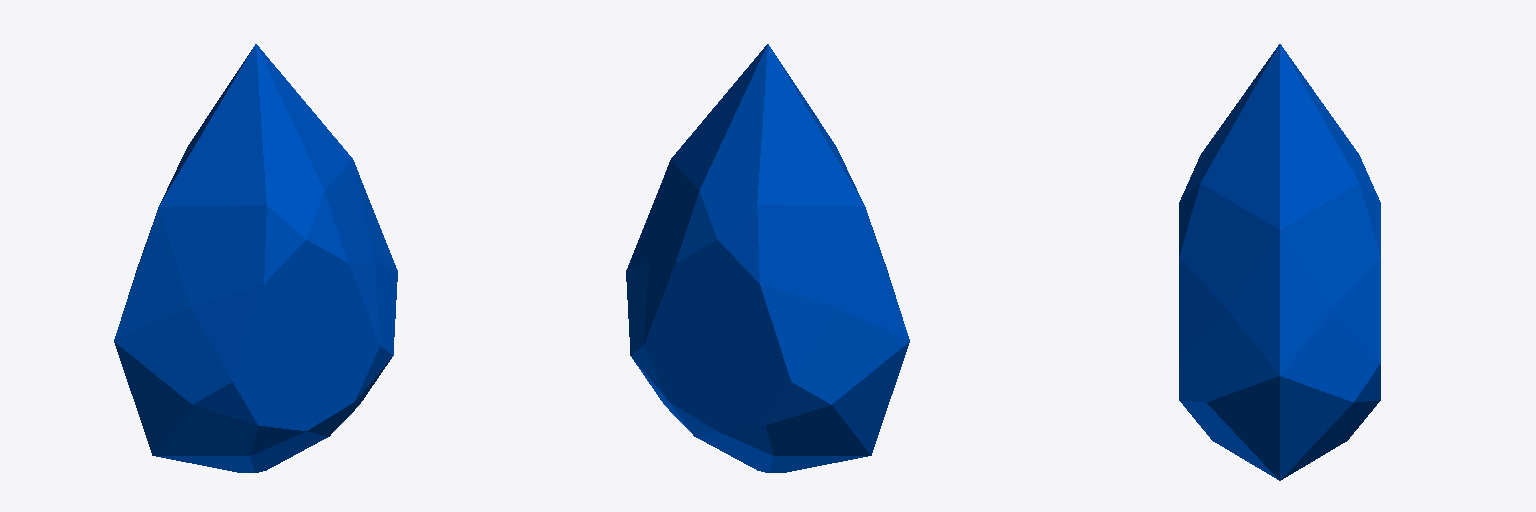
File: Gem3.obj
3 renders of one model, left to right at view 1: azimuth 30°, elevation 25°; view 2: azimuth 150°, elevation 25°; view 3: azimuth 270°, elevation 25°, orthographic.
Visible parts, largest first — view 1: Gem.001_Shape002.001; view 2: Gem.001_Shape002.001; view 3: Gem.001_Shape002.001.
Part boxes in pixels (x1,y1,x2,y2): Gem.001_Shape002.001: (114, 44, 397, 472); Gem.001_Shape002.001: (626, 44, 909, 472); Gem.001_Shape002.001: (1179, 44, 1380, 480).
Bounding box in the file's own units: 0.7109 × 1.02 × 0.4371.